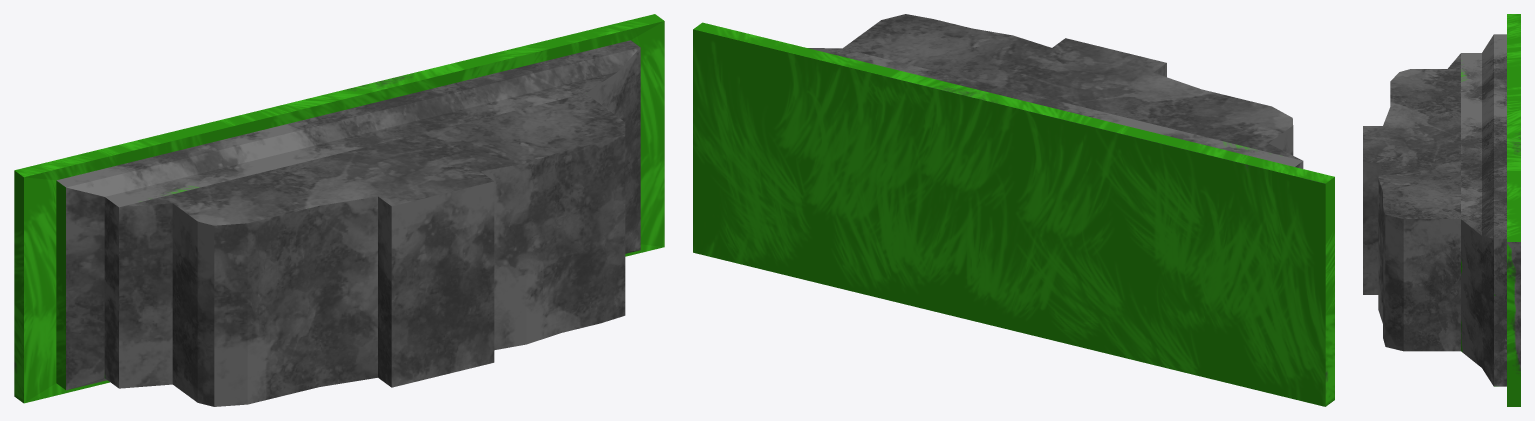
The model's file is Plataforma.fbx.
The picture shows the model from 3 angles, left to right: view 1: azimuth 30°, elevation 25°; view 2: azimuth 150°, elevation 25°; view 3: azimuth 270°, elevation 25°; orthographic projection. The views are drawn at different scales.
Parts seen in each view (by area): view 1: Cube; view 2: Cube; view 3: Cube.
Boxes of the visible parts, box(x1,y1,x2,y2) form: Cube: box(14, 14, 664, 406); Cube: box(693, 14, 1334, 406); Cube: box(1363, 14, 1520, 406).
Size of the model in its own units: 661 by 223 by 194.
